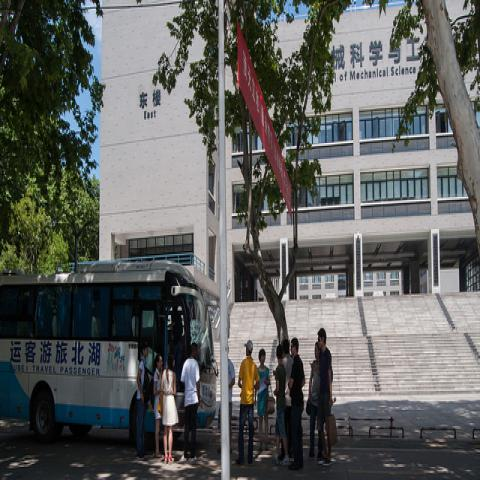bus: (1, 263, 218, 445)
